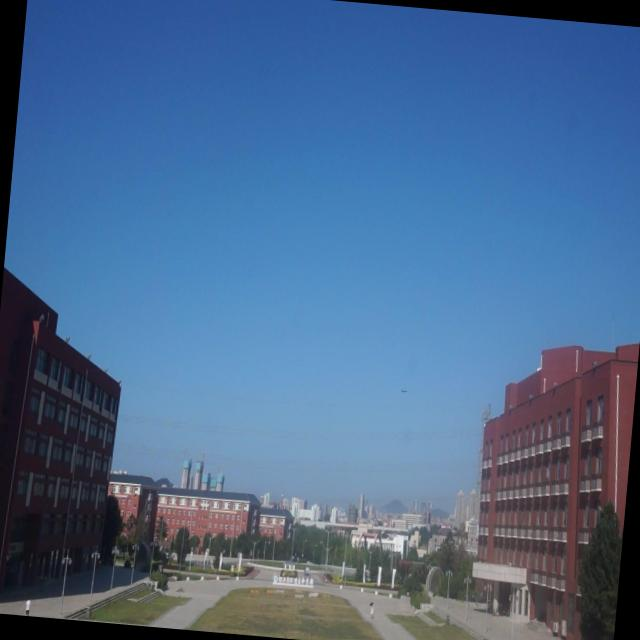drone: (395, 382, 412, 399)
